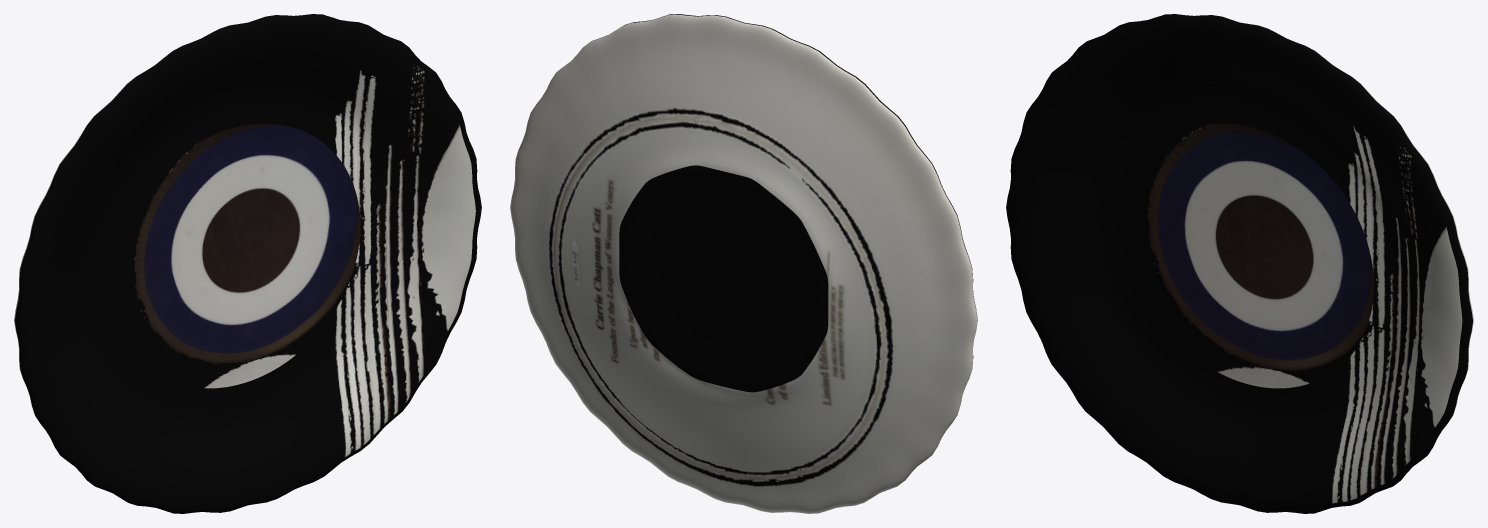
The picture shows the model from 3 angles, left to right: view 1: azimuth 30°, elevation 25°; view 2: azimuth 150°, elevation 25°; view 3: azimuth 330°, elevation 25°; orthographic projection.
Bounding box in the file's own units: 1 × 0.9933 × 0.0873.
